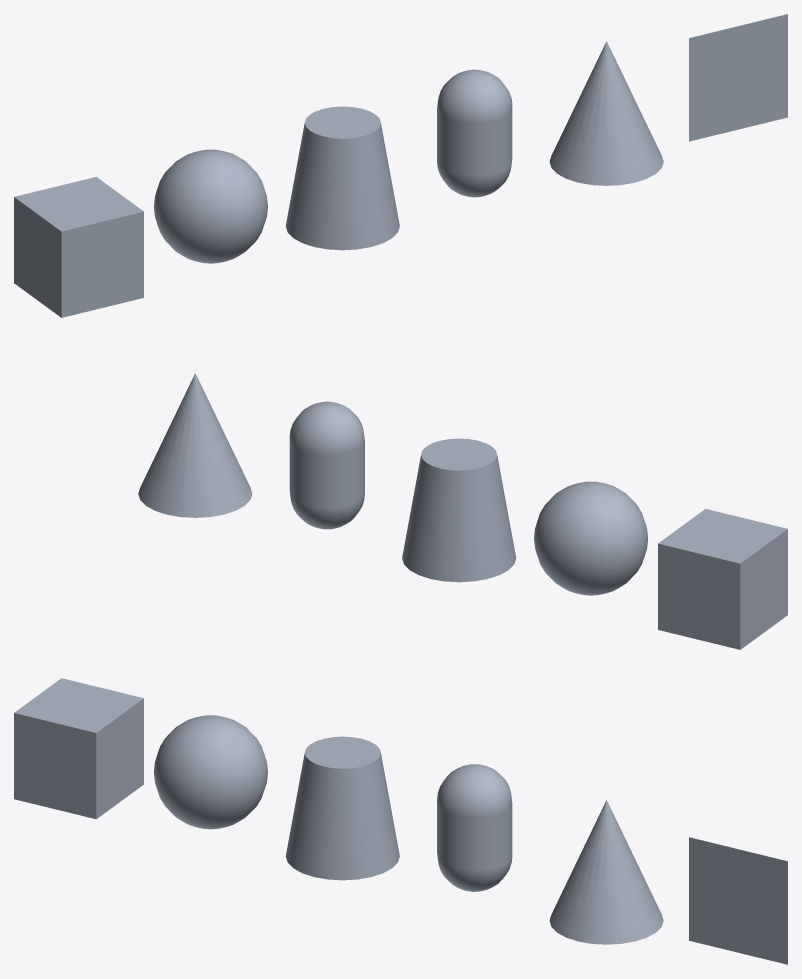
The model's file is primitives.glb.
3 renders of one model, top to bottom at view 1: azimuth 30°, elevation 25°; view 2: azimuth 150°, elevation 25°; view 3: azimuth 330°, elevation 25°, orthographic.
Visible parts, largest first — view 1: box, cylinder, plane, sphere, cone, capsule; view 2: box, cylinder, sphere, cone, capsule; view 3: box, cylinder, plane, sphere, cone, capsule.
Boxes of the visible parts, box(x1,y1,x2,y2) form: box: box(14, 177, 143, 317); cylinder: box(285, 106, 399, 250); plane: box(689, 14, 787, 141); sphere: box(154, 149, 267, 263); cone: box(549, 41, 663, 185); capsule: box(437, 69, 512, 197); box: box(658, 509, 787, 649); cylinder: box(402, 438, 516, 582); sphere: box(534, 481, 647, 595); cone: box(138, 373, 252, 517); capsule: box(289, 401, 364, 529); box: box(14, 678, 143, 819); cylinder: box(285, 736, 399, 880); plane: box(689, 837, 787, 964); sphere: box(153, 715, 267, 829); cone: box(549, 800, 663, 944); capsule: box(437, 764, 512, 891).
Size of the model in its own units: 4.55 by 0.7 by 0.6.
